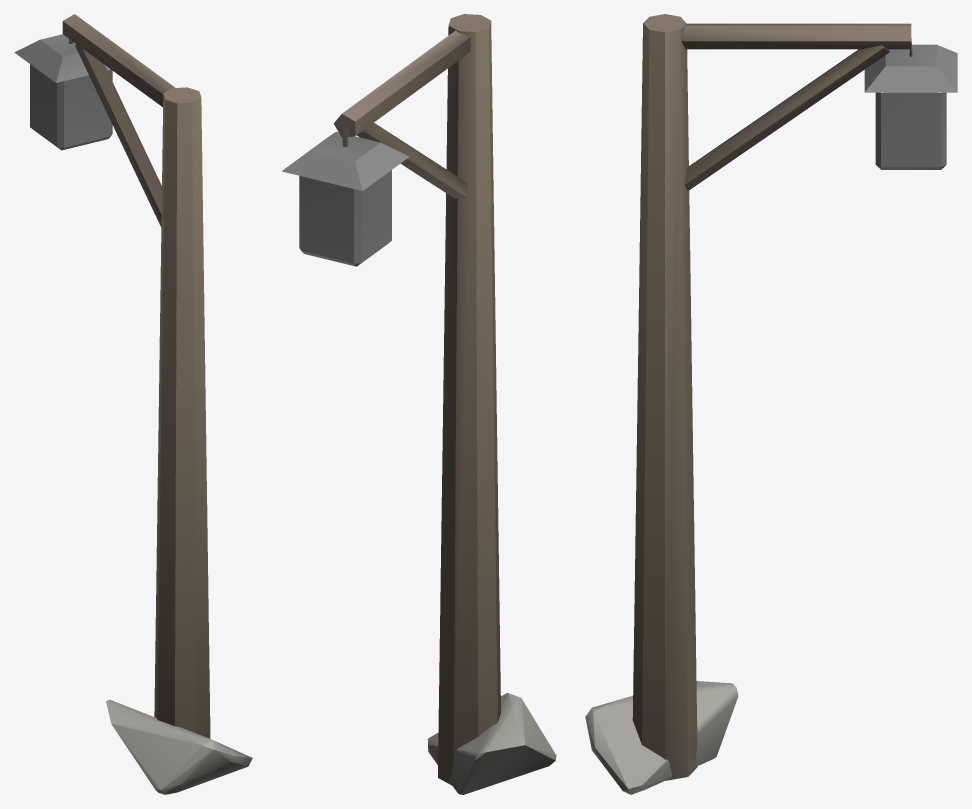
Rendered from lantern.lod1.glb.
3 renders of one model, left to right at view 1: azimuth 30°, elevation 25°; view 2: azimuth 150°, elevation 25°; view 3: azimuth 270°, elevation 25°, orthographic. The views are drawn at different scales.
Size of the model in its own units: 0.5356 by 3 by 1.36.
